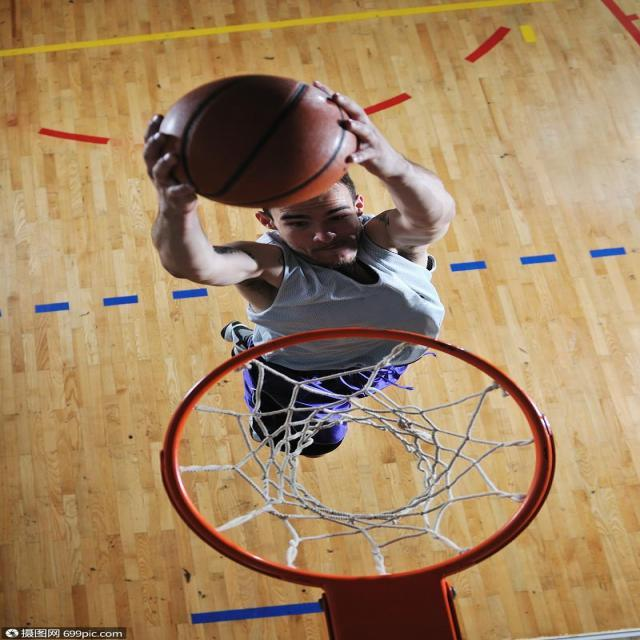rim: (164, 75, 353, 209)
